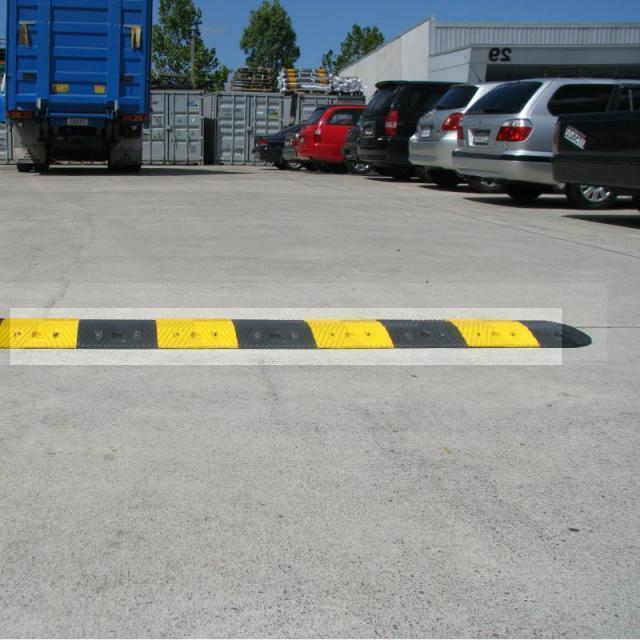bump: (10, 308, 562, 365)
